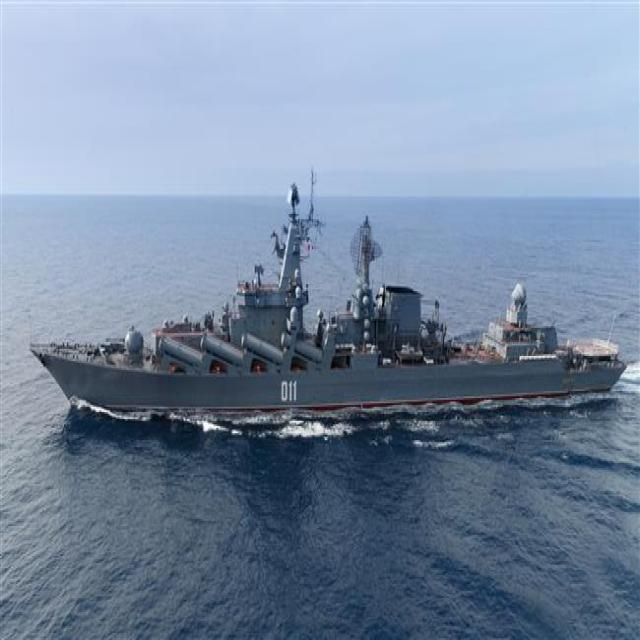navalvessels: (32, 108, 628, 428)
